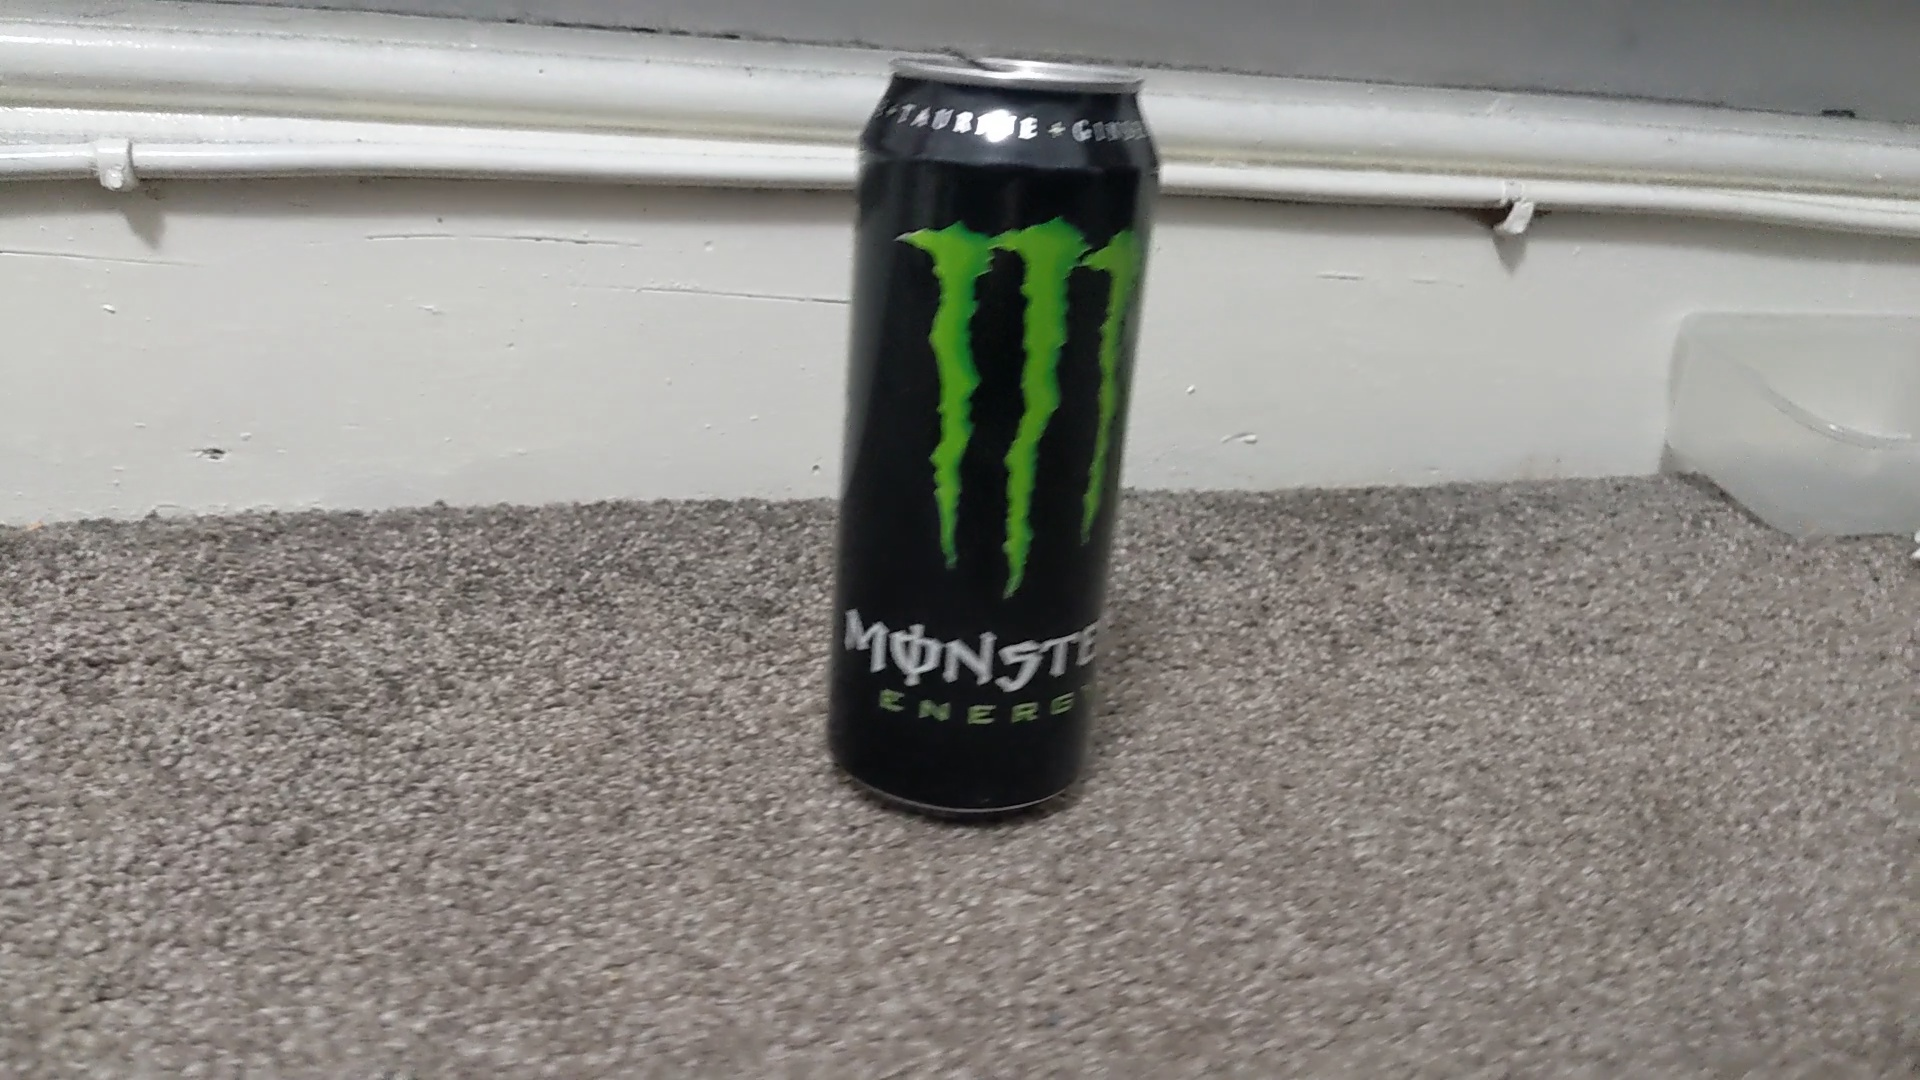monster-original: (822, 55, 1162, 819)
